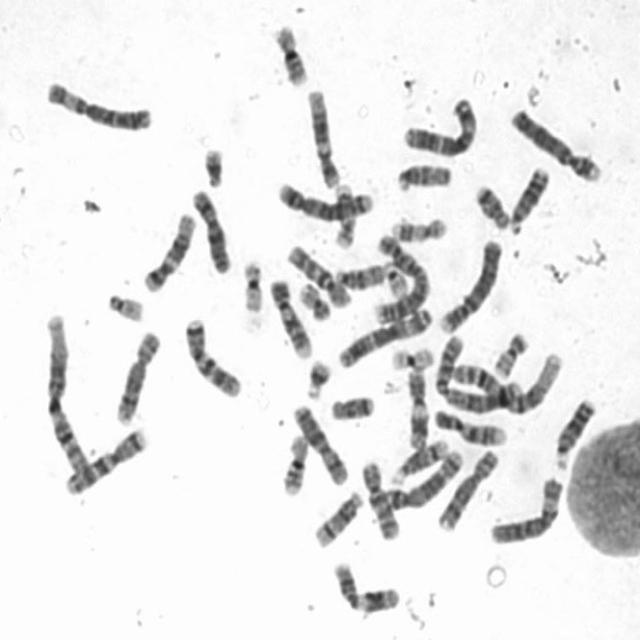A1: (40, 308, 91, 475), (450, 350, 566, 416)
A2: (433, 334, 524, 414), (371, 230, 431, 326)
A3: (334, 304, 434, 370), (399, 94, 479, 160)
B4: (508, 105, 603, 184), (436, 234, 504, 336)
B5: (382, 445, 464, 511), (274, 179, 374, 221)
C10: (283, 240, 352, 310), (358, 458, 401, 541)
C11: (329, 558, 401, 615), (403, 366, 430, 453)
C12: (140, 209, 197, 294), (304, 85, 341, 191)
C6: (42, 76, 154, 134), (486, 472, 566, 546)
C7: (62, 426, 148, 496), (180, 313, 243, 399)
C8: (435, 445, 499, 532), (111, 327, 162, 424)
C9: (267, 276, 313, 360), (431, 405, 508, 447)
D13: (551, 394, 597, 471), (506, 162, 551, 234)
D14: (310, 486, 364, 549), (387, 435, 449, 486)
D15: (393, 160, 455, 193), (332, 259, 386, 290)
E16: (271, 22, 309, 88), (278, 432, 310, 498)
E17: (389, 212, 450, 244), (328, 181, 356, 250)
E18: (472, 181, 509, 230), (327, 391, 376, 422)
F19: (238, 257, 265, 313), (388, 344, 436, 372)
F20: (490, 328, 530, 379), (297, 278, 331, 322)
G21: (302, 354, 334, 401), (200, 142, 226, 188)
G22: (104, 288, 145, 324), (381, 258, 412, 299)
X: (290, 401, 351, 487), (189, 185, 233, 275)
